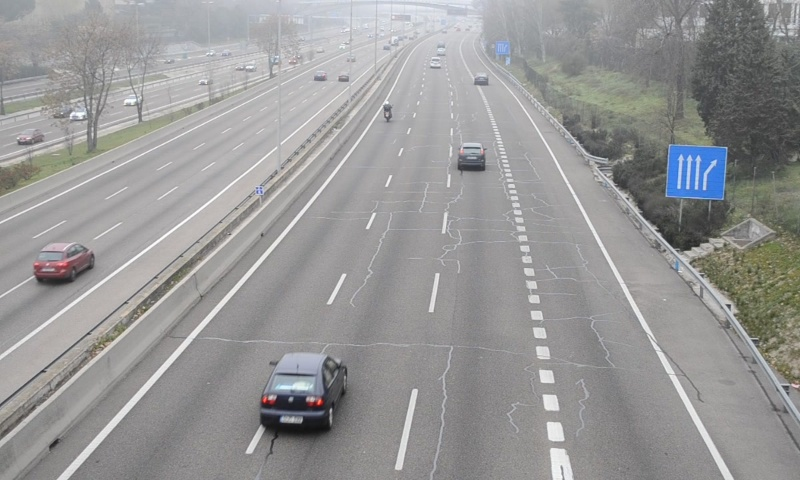car: (260, 353, 348, 434), (457, 142, 485, 172), (474, 72, 488, 86)
motorcycle: (382, 100, 394, 124)
